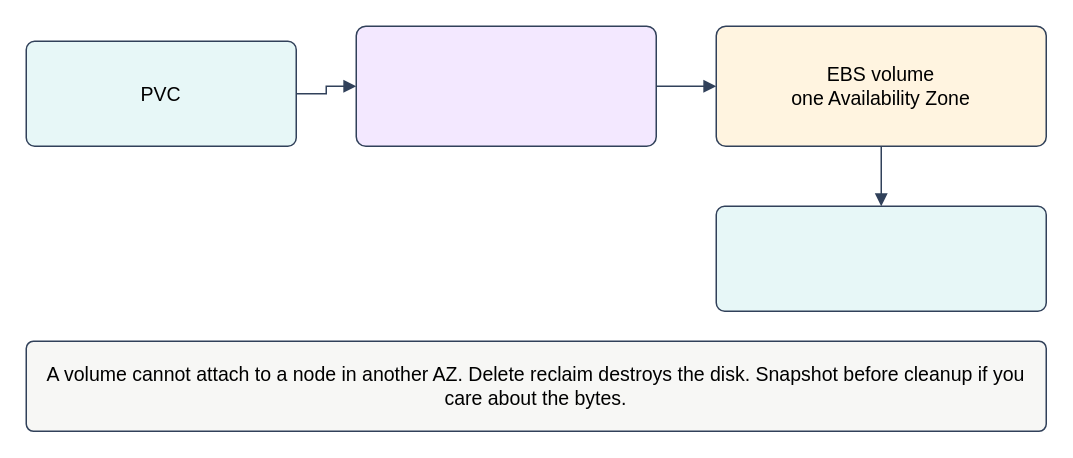
Image size: 1073x458. Some labels were removed from this diagram. Here are the shapes that lost their labels. From the top down, the centre of each, then its label:
At point 505,85: "StorageClass gp3 WaitForFirstConsumer provisioner ebs.csi.aws.com".
At point 880,258: "Pod scheduled in that same AZ".
